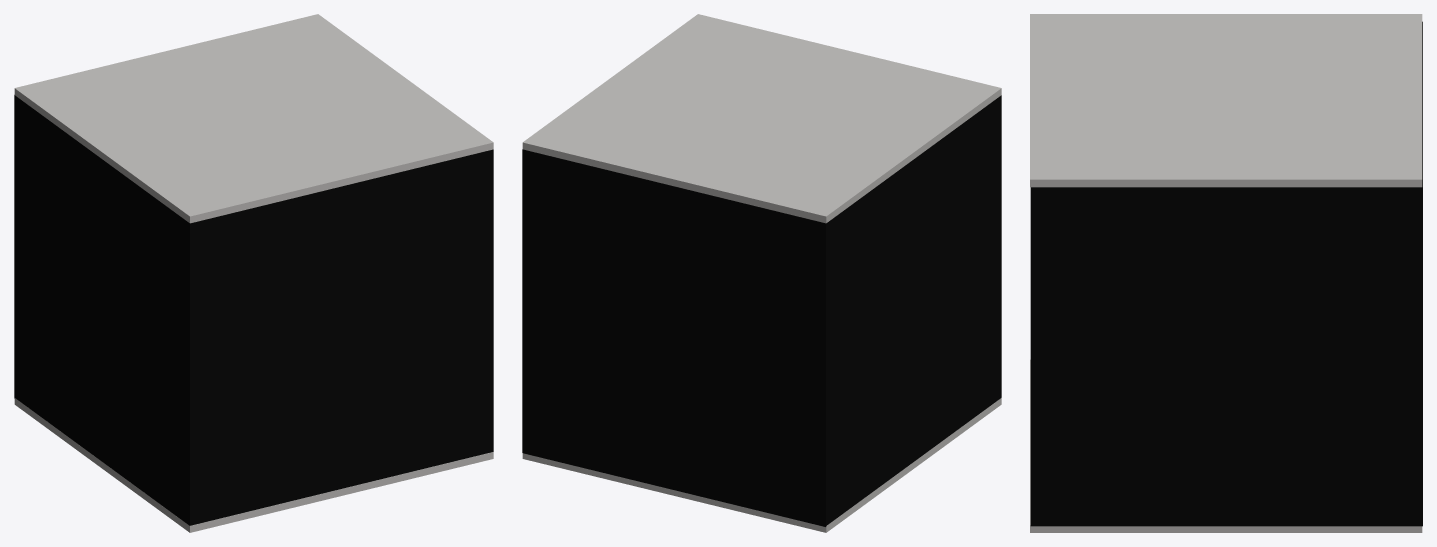
Rendered from EsquineroBlanco.fbx.
3 renders of one model, left to right at view 1: azimuth 30°, elevation 25°; view 2: azimuth 150°, elevation 25°; view 3: azimuth 270°, elevation 25°, orthographic. The views are drawn at different scales.
Visible parts, largest first — view 1: Cube.079, Cube.081, Cube.082; view 2: Cube.079, Cube.081, Cube.082; view 3: Cube.079, Cube.081, Cube.082.
Part boxes in pixels (box(x1,y1,x2,y2)): Cube.079: box(14, 95, 493, 525); Cube.081: box(14, 14, 493, 223); Cube.082: box(14, 398, 493, 532); Cube.079: box(522, 95, 1001, 526); Cube.081: box(522, 14, 1001, 223); Cube.082: box(522, 398, 1001, 532); Cube.079: box(1030, 21, 1422, 526); Cube.081: box(1030, 14, 1422, 187); Cube.082: box(1030, 359, 1422, 532).
Size of the model in its own units: 73.3 by 72.96 by 73.48.
